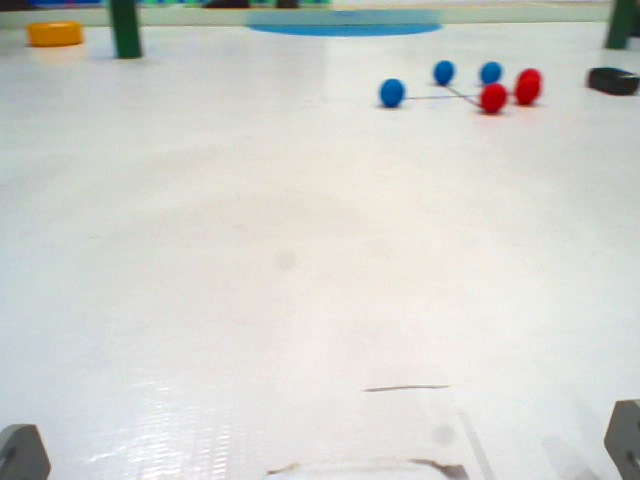blue: (378, 78, 404, 109), (432, 59, 455, 85), (479, 61, 502, 85)
red: (515, 67, 542, 104), (477, 86, 507, 113)
yellow: (24, 20, 87, 48)
zhuzi: (107, 1, 150, 63), (602, 1, 634, 48)
